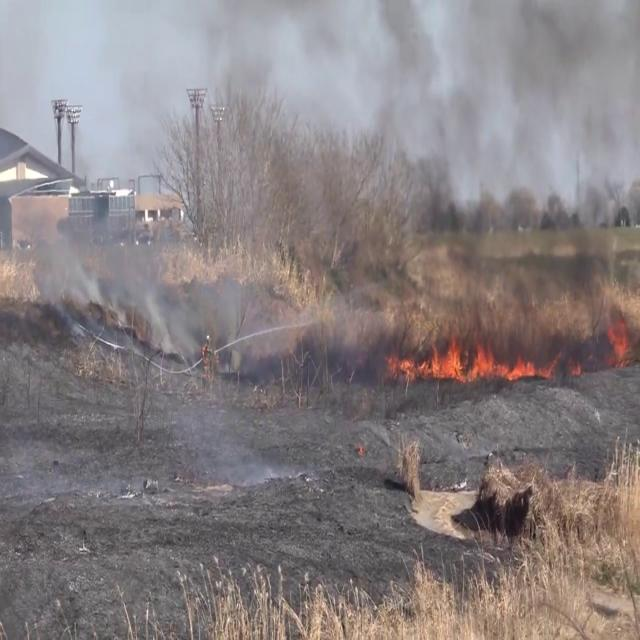Fire: (393, 330, 552, 389), (603, 314, 633, 368)
Smoke: (349, 0, 640, 308), (29, 208, 175, 337)
